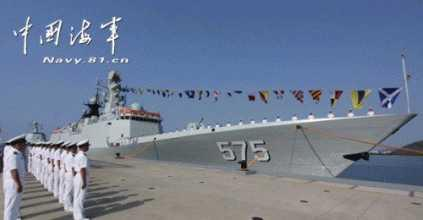warship: (57, 55, 419, 173)
